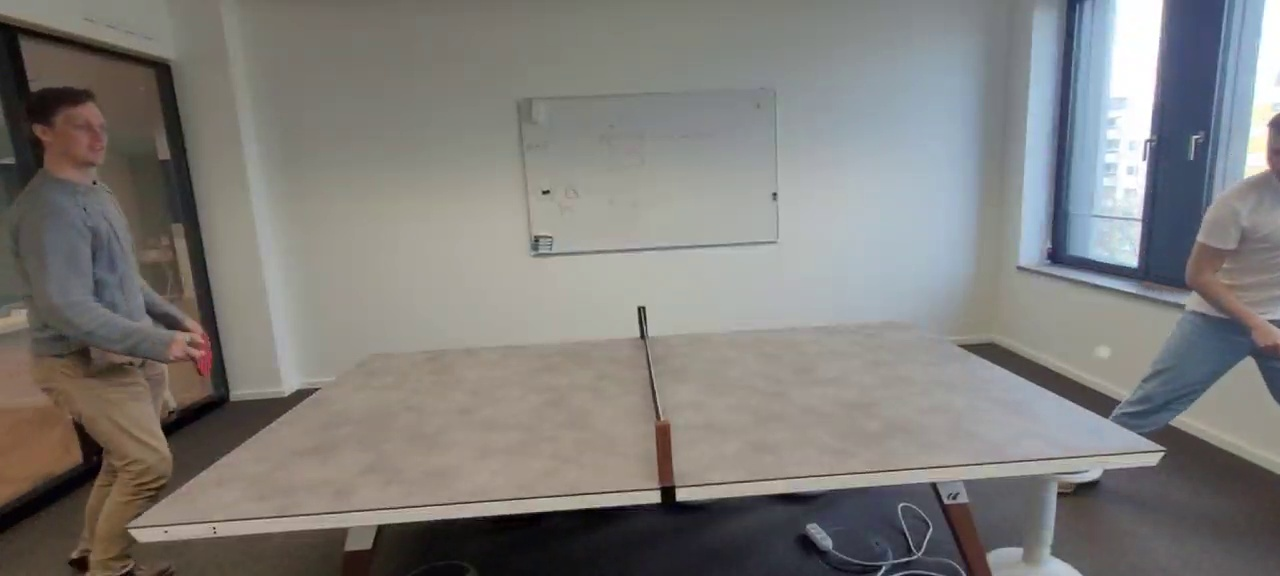1: (188, 332, 212, 375)
2: (1093, 344, 1111, 360)
ttplatte: (124, 319, 1163, 527)
